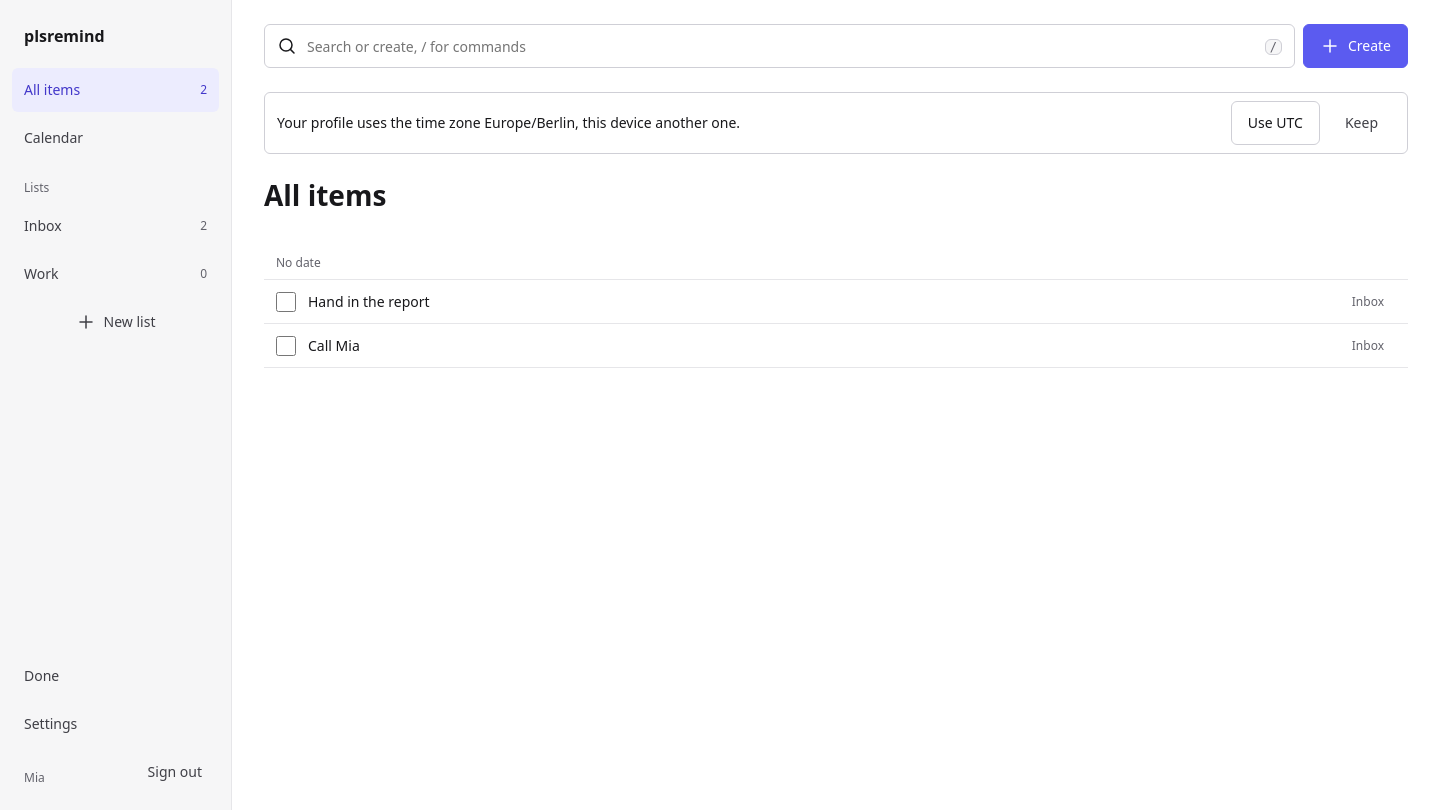
Scenario: the prefix shows the commands, and typing narrows them
In the dropdown named "Search, create": x=781, y=46 [305,25,1257,67], type "/"
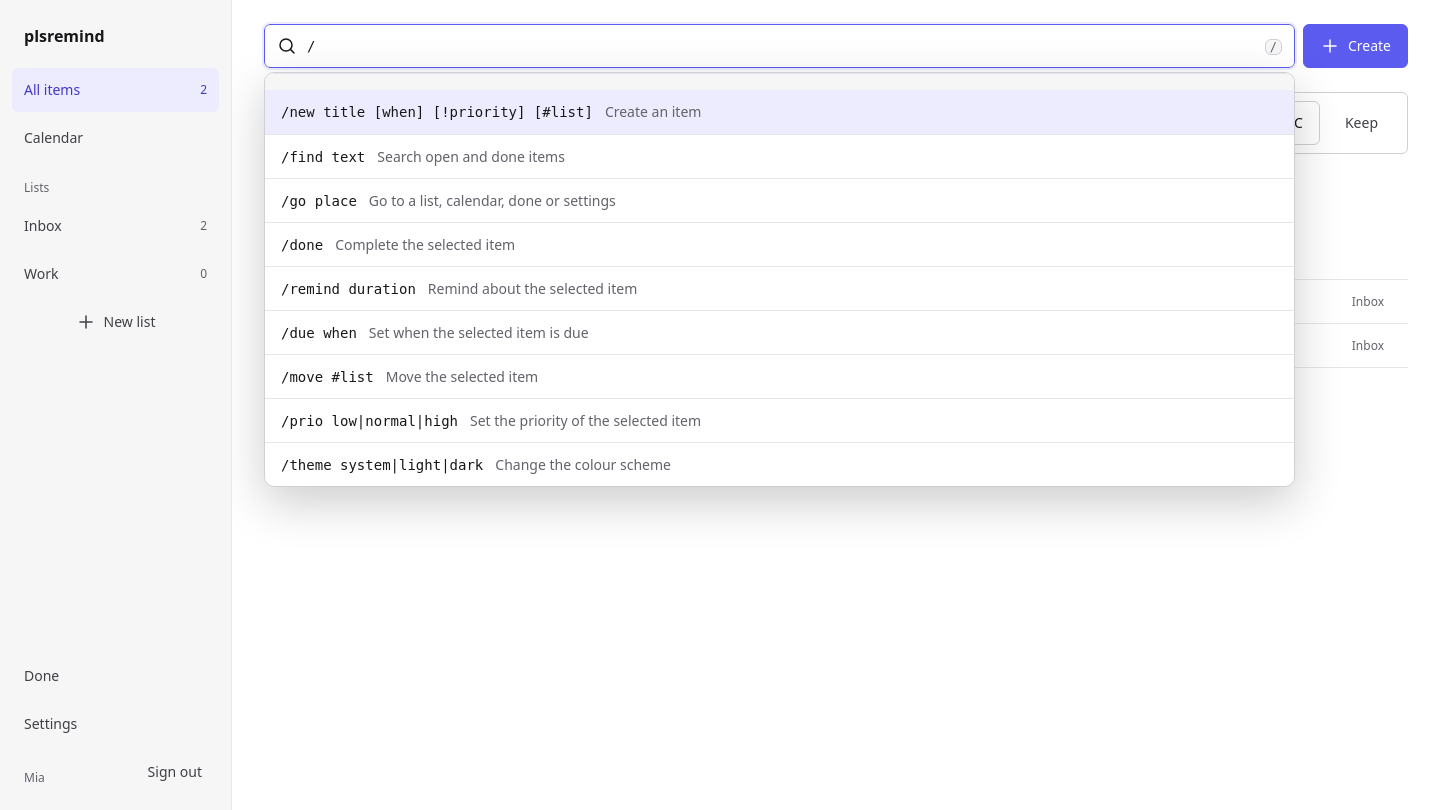
Result: the dropdown named "Search, create" is expanded
In the dropdown named "Search, create": x=781, y=46 [305,25,1257,67], type "d"
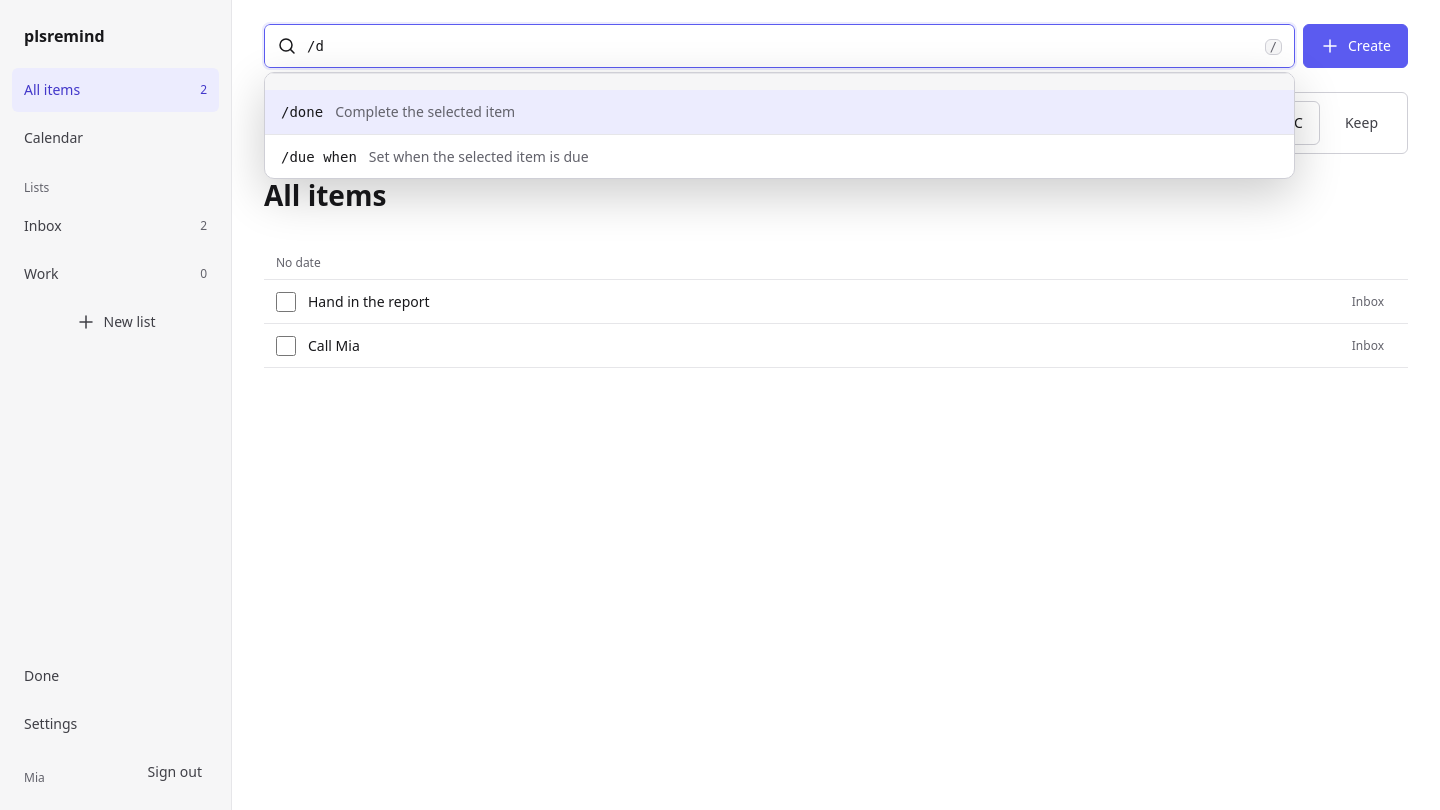
Result: the number of options is 2 at [265,90,1294,134]; [265,134,1294,178]
Press Tab
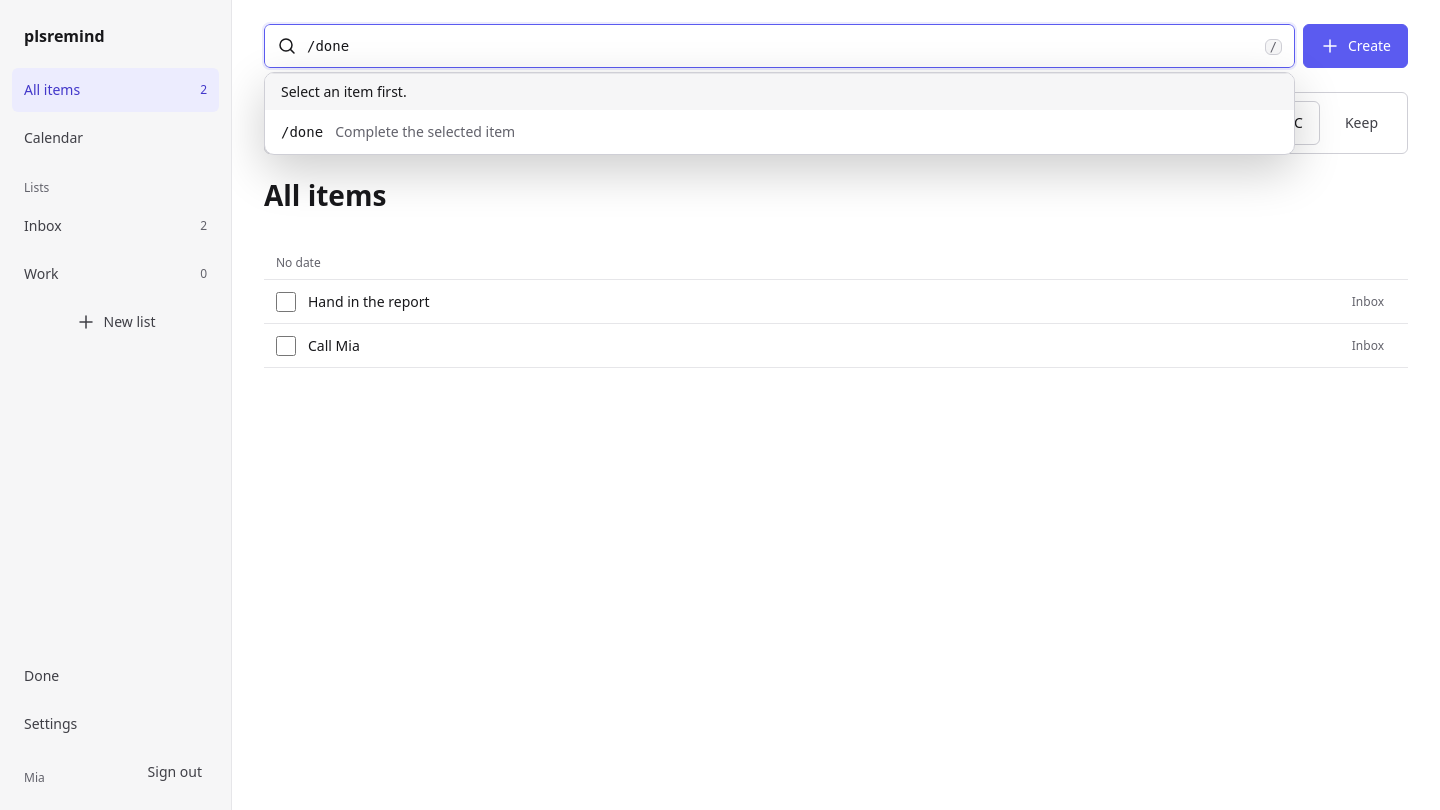
Result: the dropdown named "Search, create" holds "/done " at [305,25,1257,67]
